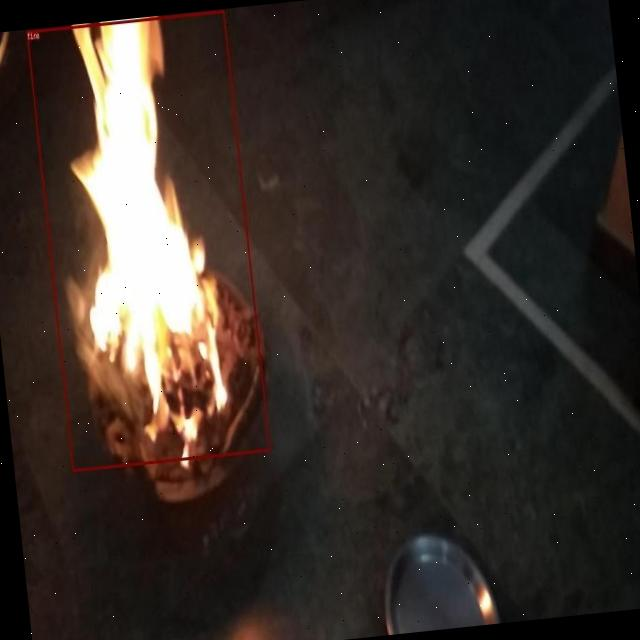fire: (26, 9, 270, 470)
